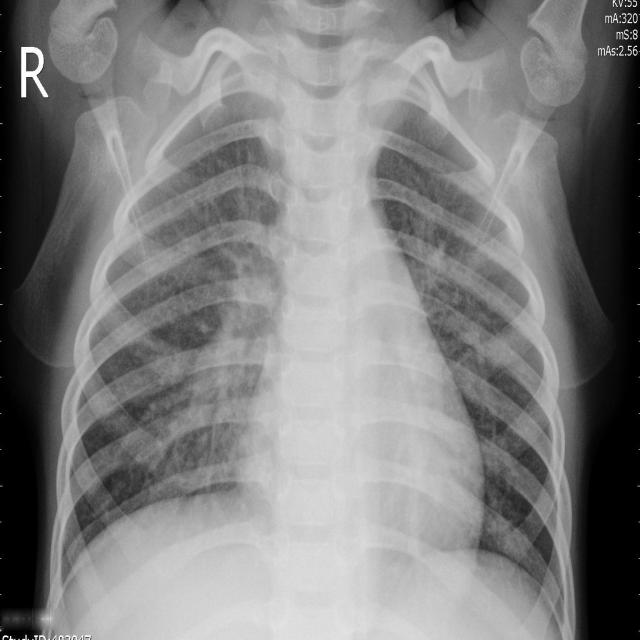low-pneumonia: (187, 214, 276, 482)
